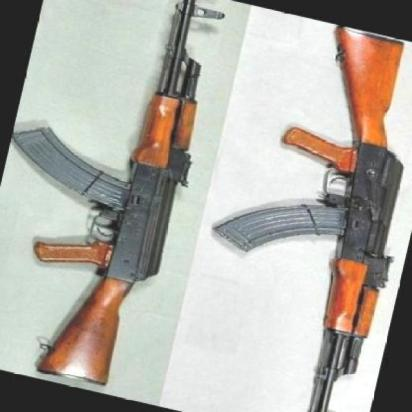Gun: (8, 0, 207, 385), (212, 27, 403, 412)
